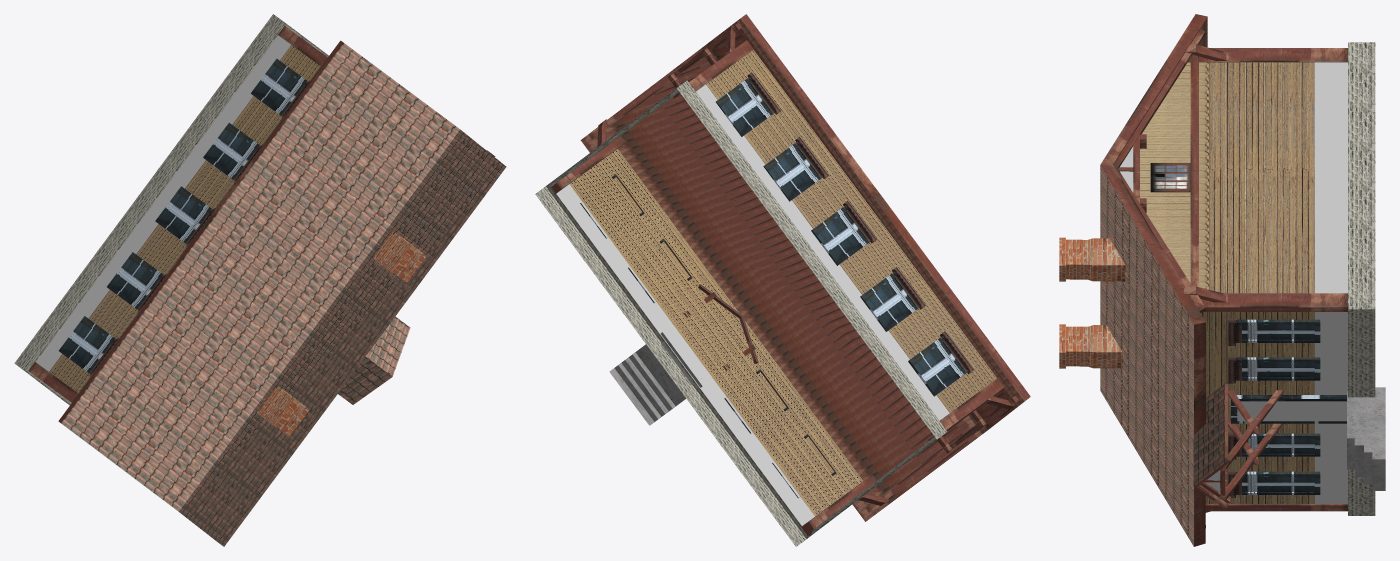
The model's file is Suutryki_10.obj.
3 views of the same model, side by side, from view 1: azimuth 30°, elevation 25°; view 2: azimuth 150°, elevation 25°; view 3: azimuth 270°, elevation 25° (orthographic). The views are drawn at different scales.
Parts seen in each view (by area): view 1: Suurtyki_10; view 2: Suurtyki_10; view 3: Suurtyki_10.
Part boxes in pixels (bbox=[...]): Suurtyki_10: bbox=[14, 14, 506, 546]; Suurtyki_10: bbox=[535, 14, 1030, 546]; Suurtyki_10: bbox=[1059, 14, 1385, 546].
Size of the model in its own units: 15.69 by 15.99 by 7.76.
